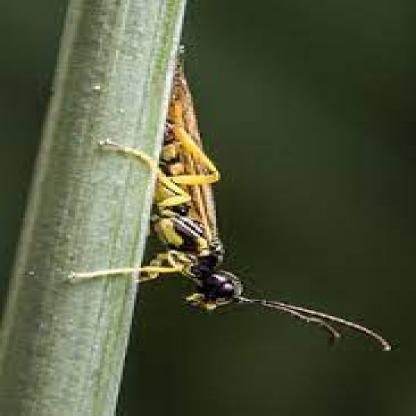sawfly: (88, 38, 395, 352)
